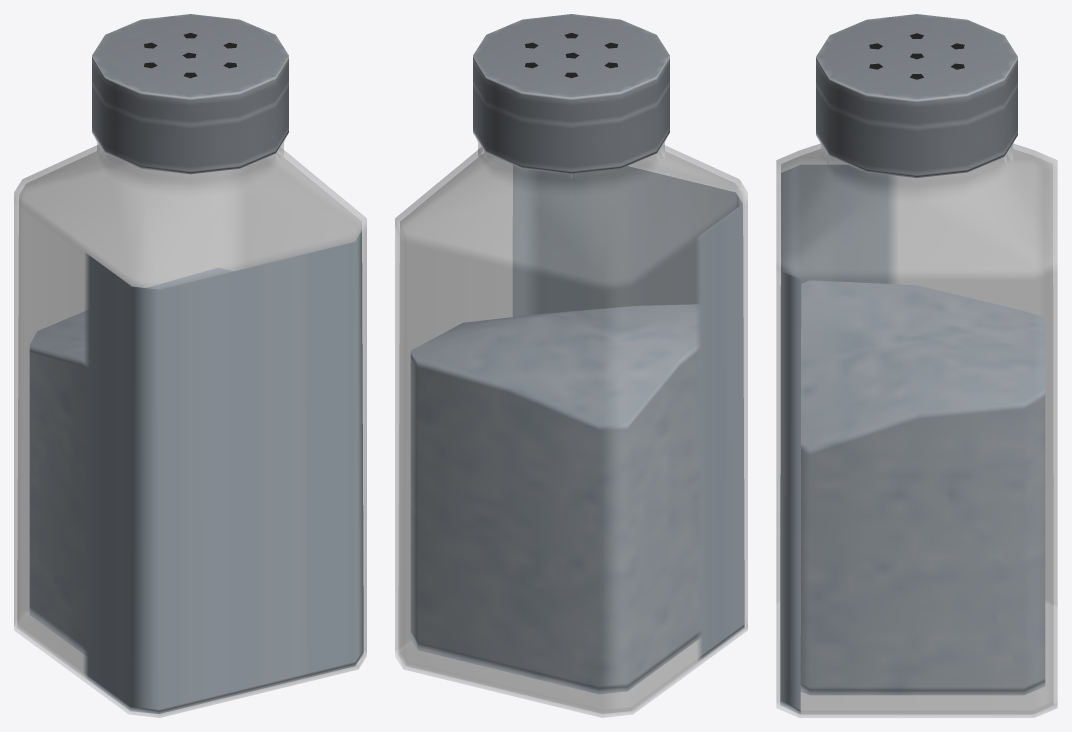
Rendered from pi_spice02.gltf.
The picture shows the model from 3 angles, left to right: view 1: azimuth 30°, elevation 25°; view 2: azimuth 150°, elevation 25°; view 3: azimuth 270°, elevation 25°; orthographic projection. The views are drawn at different scales.
Visible parts, largest first — view 1: pi_spice02_05_shape:pi_spice02_body01_tra, pi_spice02_02_shape:pi_spice02_body01_tra, pi_spice02_01_shape:pi_spice02_body01, pi_spice02_03_shape:pi_spice02_body01; view 2: pi_spice02_05_shape:pi_spice02_body01_tra, pi_spice02_02_shape:pi_spice02_body01_tra, pi_spice02_03_shape:pi_spice02_body01, pi_spice02_01_shape:pi_spice02_body01; view 3: pi_spice02_05_shape:pi_spice02_body01_tra, pi_spice02_02_shape:pi_spice02_body01_tra, pi_spice02_03_shape:pi_spice02_body01, pi_spice02_01_shape:pi_spice02_body01, pi_spice02_04_shape:pi_spice02_body01.
Boxes of the visible parts, x1,y1,x2,y2 form: pi_spice02_05_shape:pi_spice02_body01_tra: (14, 140, 366, 717); pi_spice02_02_shape:pi_spice02_body01_tra: (17, 150, 363, 713); pi_spice02_01_shape:pi_spice02_body01: (92, 14, 288, 174); pi_spice02_03_shape:pi_spice02_body01: (29, 267, 233, 655); pi_spice02_05_shape:pi_spice02_body01_tra: (395, 140, 747, 717); pi_spice02_02_shape:pi_spice02_body01_tra: (398, 150, 744, 713); pi_spice02_03_shape:pi_spice02_body01: (410, 304, 700, 694); pi_spice02_01_shape:pi_spice02_body01: (473, 14, 669, 174); pi_spice02_05_shape:pi_spice02_body01_tra: (776, 143, 1057, 717); pi_spice02_02_shape:pi_spice02_body01_tra: (780, 149, 1053, 714); pi_spice02_03_shape:pi_spice02_body01: (800, 280, 1045, 695); pi_spice02_01_shape:pi_spice02_body01: (816, 14, 1017, 177); pi_spice02_04_shape:pi_spice02_body01: (869, 33, 964, 79).
Bounding box in the file's own units: 0.0411 × 0.097 × 0.0411.
2 materials, 2 textured.
